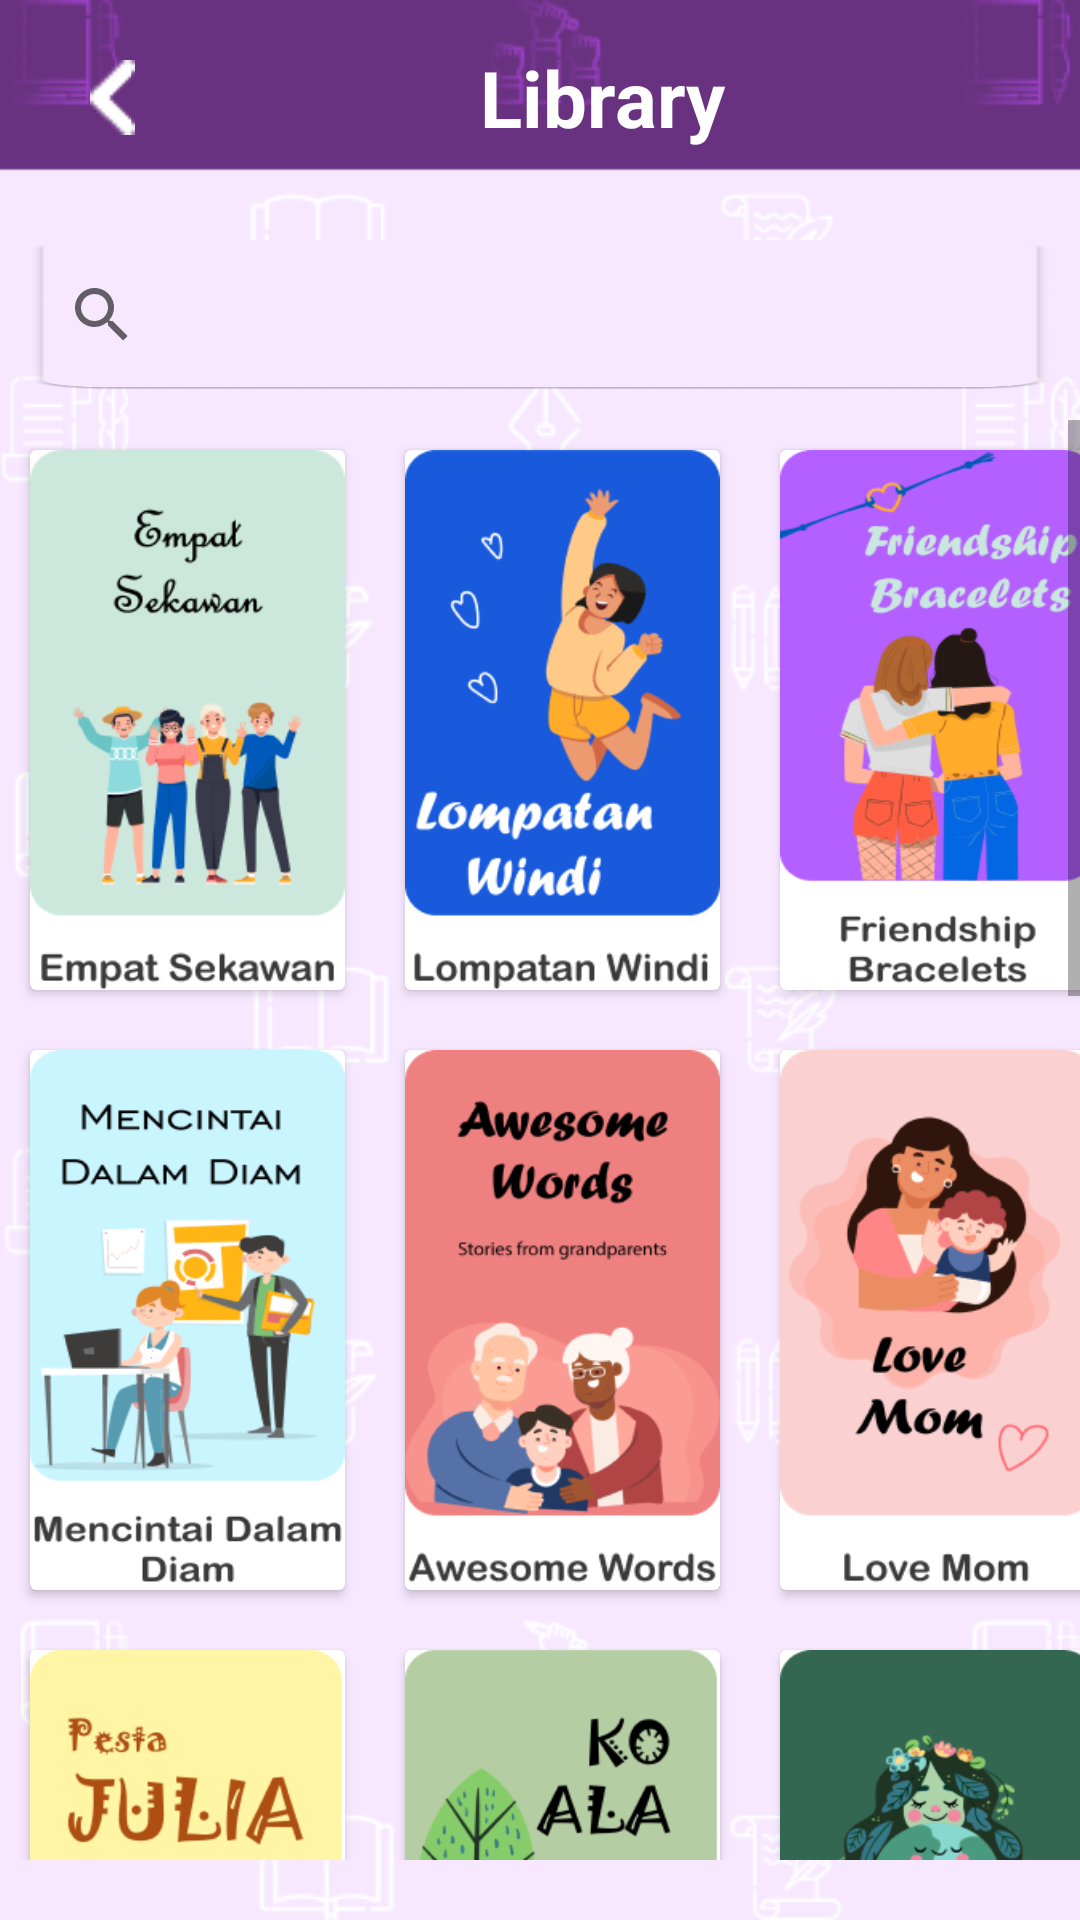

Where to tap for icons on this 1080×1920 app screen, as (x,y):
btnback: (112,97)
